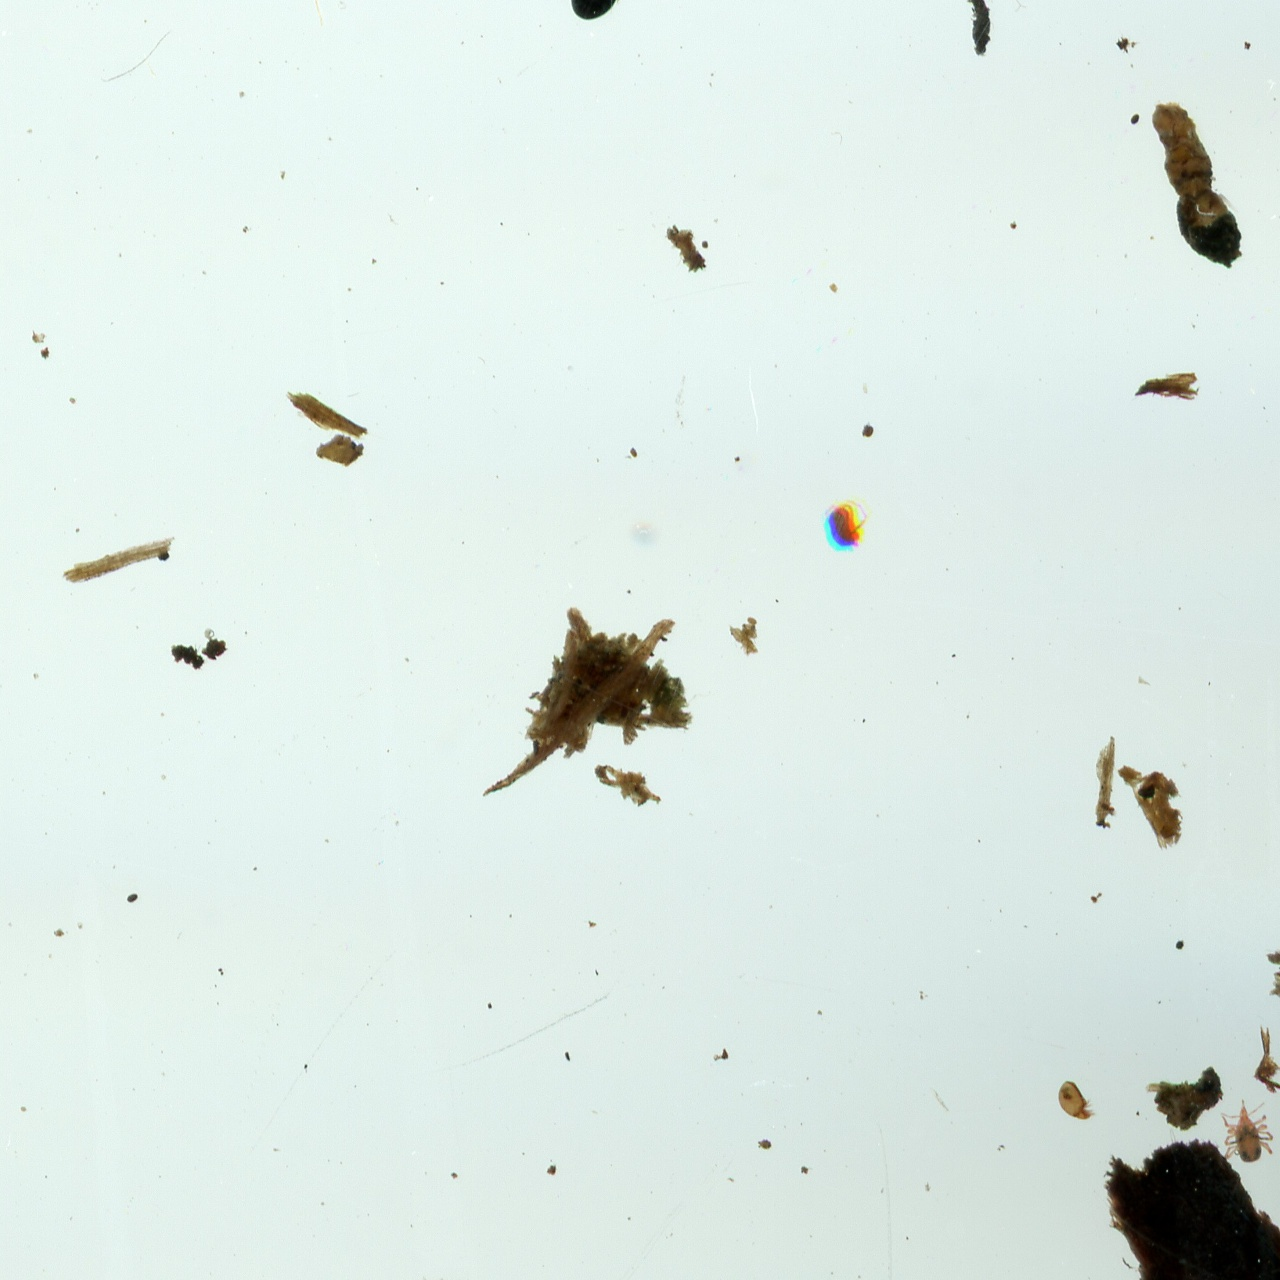arthropod: (1214, 1092, 1280, 1170), (820, 498, 876, 556), (569, 0, 625, 22)
